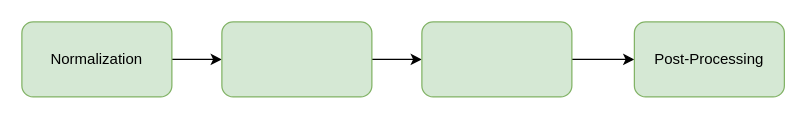
The diagram is 806 pixels wide and 119 high, and some of its shapes have lost their labels. Here are the shapes that lost their labels. From the top down, the centre of each, then its label:
At (296,59): "pre-tokenization".
At (496,59): "vocabulary Building (Model)".
